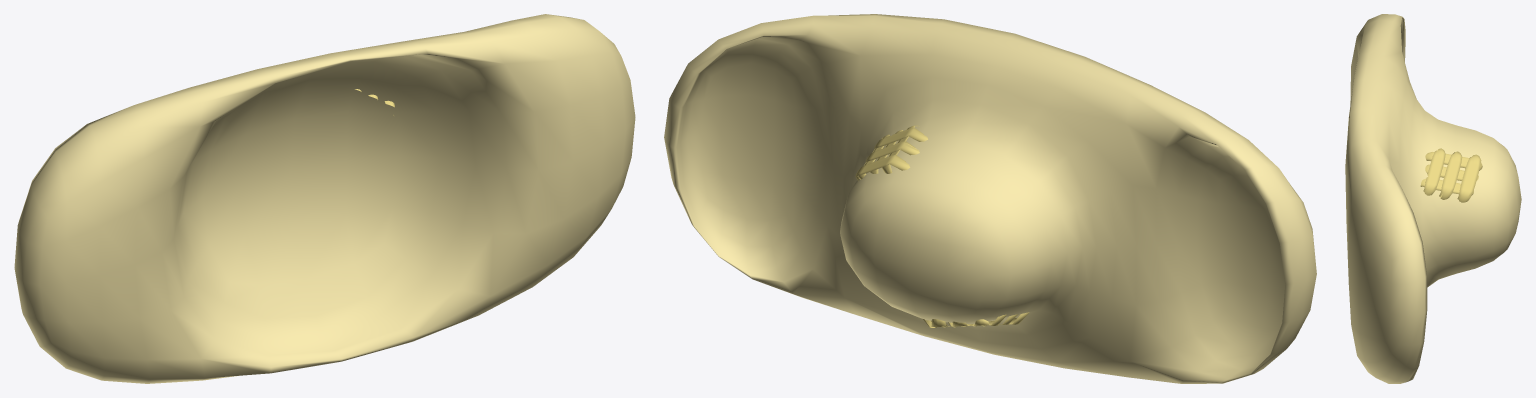
Rendered from item-farmer-hat.glb.
3 views of the same model, side by side, from view 1: azimuth 30°, elevation 25°; view 2: azimuth 150°, elevation 25°; view 3: azimuth 270°, elevation 25° (orthographic). The views are drawn at different scales.
Bounding box in the file's own units: 4.06 × 1.91 × 1.27.
